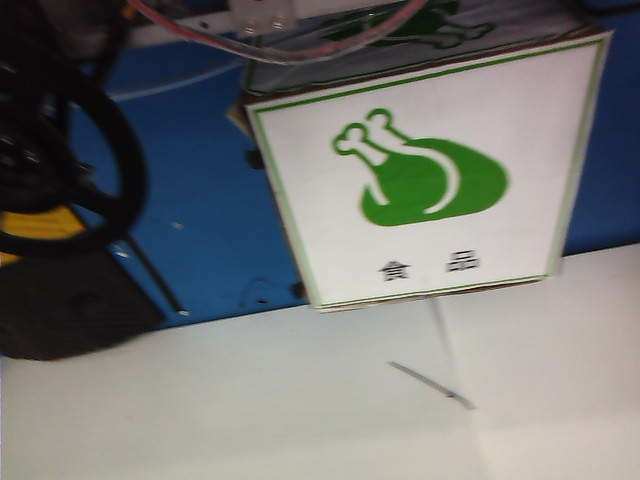Cube_food: (325, 99, 530, 286)
